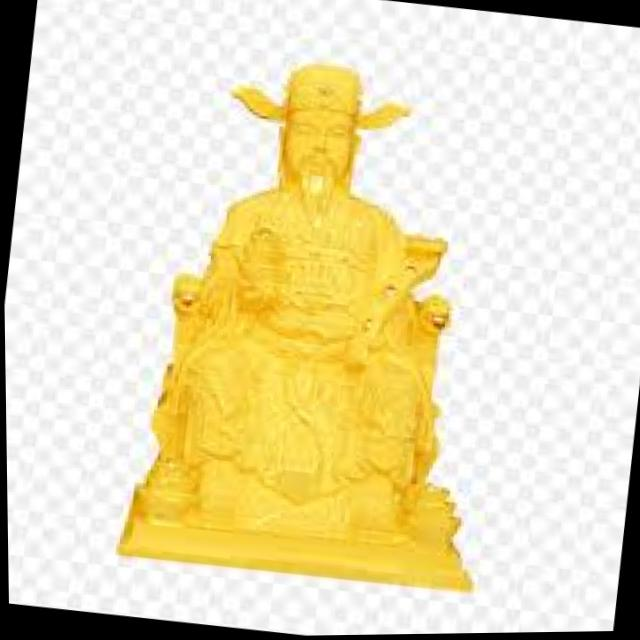Cai shen: (162, 45, 446, 498)
